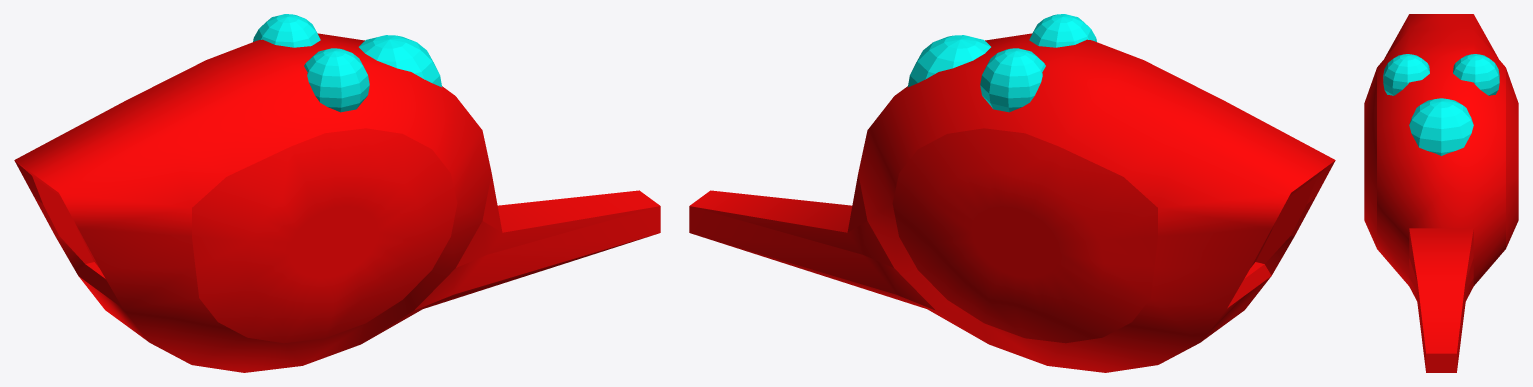
File: battleship_02_incolor_02.fbx
The picture shows the model from 3 angles, left to right: view 1: azimuth 30°, elevation 25°; view 2: azimuth 150°, elevation 25°; view 3: azimuth 270°, elevation 25°; orthographic projection. The views are drawn at different scales.
Parts seen in each view (by area): view 1: polySurface5.001; view 2: polySurface5.001; view 3: polySurface5.001.
Boxes of the visible parts, left/top/right/bottom form: polySurface5.001: left=14, top=14, right=660, bottom=372; polySurface5.001: left=689, top=14, right=1335, bottom=372; polySurface5.001: left=1364, top=14, right=1518, bottom=372.
Bounding box in the file's own units: 3.97 × 1.9 × 1.2.
